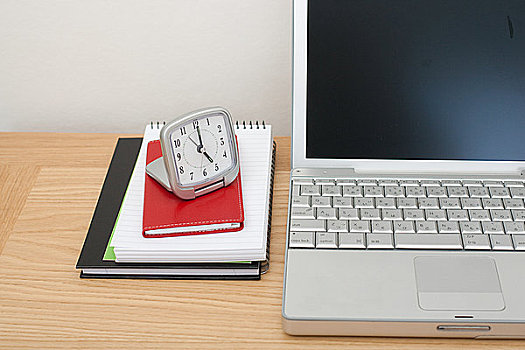book: (110, 116, 266, 269)
